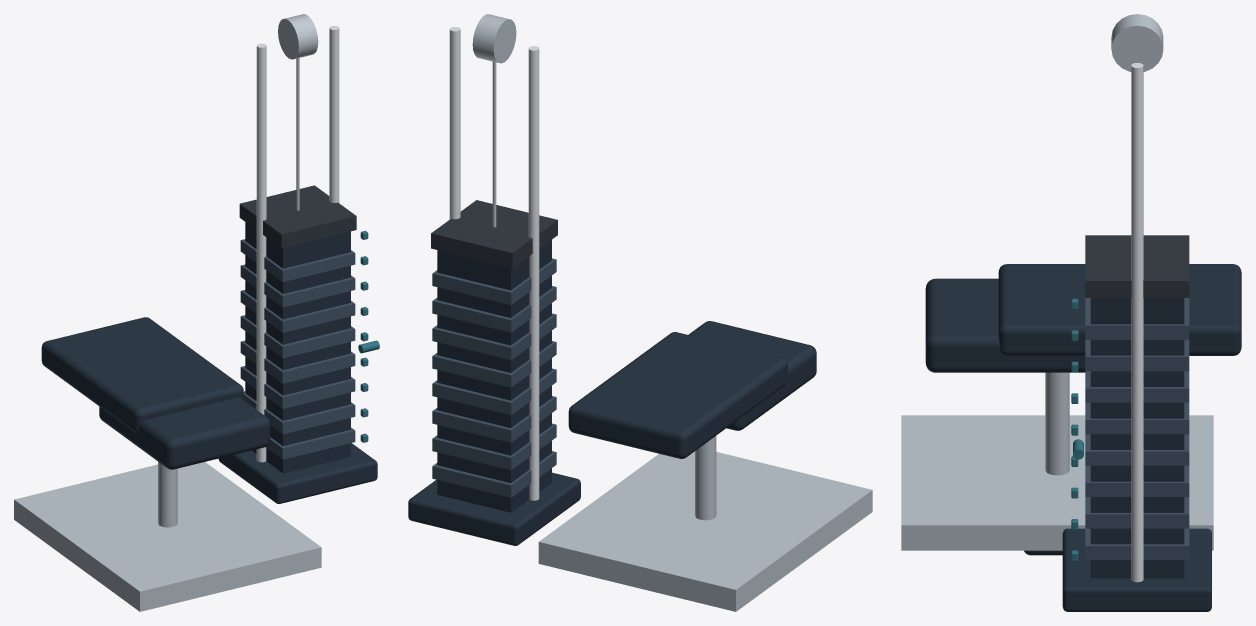
The model's file is hip_thrust.glb.
The picture shows the model from 3 angles, left to right: view 1: azimuth 30°, elevation 25°; view 2: azimuth 150°, elevation 25°; view 3: azimuth 270°, elevation 25°; orthographic projection. The views are drawn at different scales.
Parts seen in each view (by area): view 1: base, back, weightPlate (×8), stack, seat, guide (×2), stackBase, stackLift, loadPulley, post, loadCable; view 2: base, back, weightPlate (×8), stack, guide (×2), stackBase, stackLift, seat, loadPulley, post, loadCable; view 3: base, weightPlate (×8), stack, back, seat, stackBase, guide, stackLift, post, loadPulley.
Part boxes in pixels (x1,y1,x2,y2): base: (14, 462, 321, 611); back: (41, 317, 243, 433); weightPlate (×8): (240, 239, 355, 459); stack: (245, 222, 350, 473); seat: (99, 398, 270, 469); guide (×2): (256, 26, 339, 462); stackBase: (218, 443, 377, 503); stackLift: (239, 185, 356, 248); loadPulley: (278, 14, 318, 59); post: (158, 461, 177, 527); loadCable: (296, 58, 299, 210); base: (538, 451, 872, 611); back: (568, 332, 787, 458); weightPlate (×8): (432, 258, 556, 497); stack: (437, 240, 551, 512); guide (×2): (449, 27, 539, 500); stackBase: (408, 472, 580, 545); stackLift: (431, 200, 557, 268); seat: (688, 321, 816, 430); loadPulley: (472, 14, 516, 63); post: (695, 436, 716, 520); loadCable: (492, 61, 496, 227); base: (901, 415, 1213, 550); weightPlate (×8): (1085, 298, 1189, 559); stack: (1090, 298, 1184, 578); back: (998, 264, 1241, 355); seat: (925, 278, 1085, 372); stackBase: (1062, 528, 1211, 611); guide: (1131, 63, 1143, 582); stackLift: (1085, 235, 1189, 297); post: (1045, 372, 1069, 475); loadPulley: (1111, 14, 1163, 71).
Bounding box in the file's own units: 1.28 × 1.88 × 0.98.
